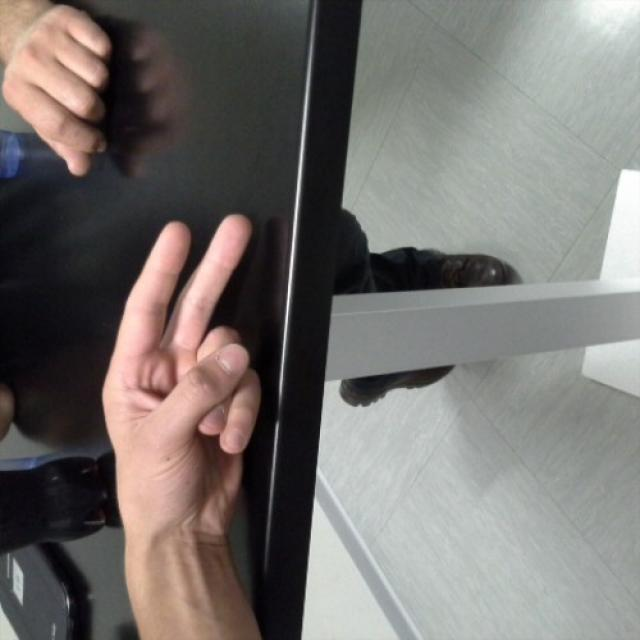scissors: (101, 214, 262, 540)
